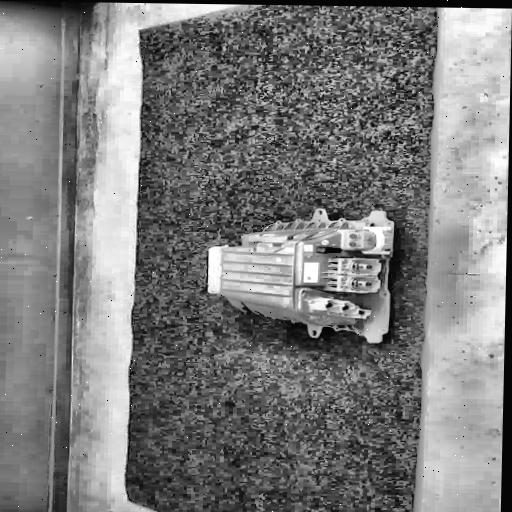bms_unit: (203, 206, 396, 342)
